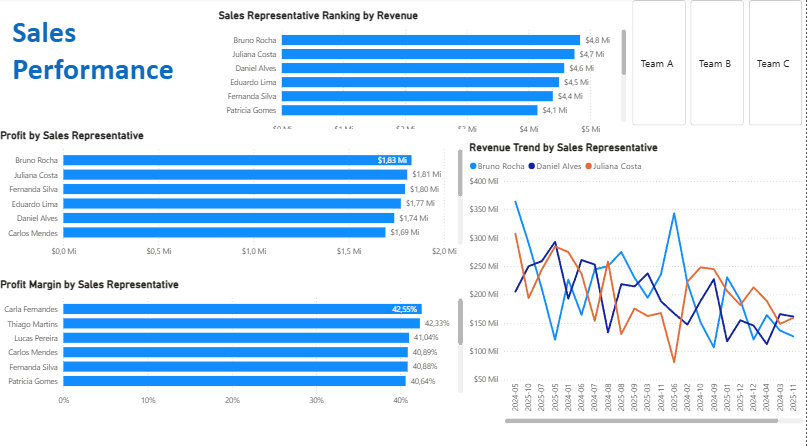

The page's visual inventory and layout, read from the dashboard file:
{"tool":"powerbi","page":{"name":"Sales Performance","canvas":[1280,720],"ordinal":2},"visuals":[{"type":"barChart","title":"Sales Representative Ranking by Revenue","fields":{"Category":["dim_sales_reps.sales_rep_name"],"Y":["fact_sales.Total Revenue"]},"box":[345.4,19,654.8,208.8],"z":0},{"type":"textbox","box":[19.1,21.5,286.7,143.3],"z":1000},{"type":"barChart","title":"Profit by Sales Representative","fields":{"Category":["dim_sales_reps.sales_rep_name"],"Y":["fact_sales.Total Profit"]},"box":[0,208.2,741.9,213],"z":2000},{"type":"barChart","title":"Profit Margin by Sales Representative","fields":{"Category":["dim_sales_reps.sales_rep_name"],"Y":["fact_sales.Margin %"]},"box":[0,444.1,742.1,212.6],"z":3000},{"type":"lineChart","title":"Revenue Trend by Sales Representative","fields":{"Category":["dim_date.year_month"],"Y":["fact_sales.Total Revenue"],"Series":["dim_sales_reps.sales_rep_name"]},"box":[742.1,227.8,539,451.7],"z":4000},{"type":"advancedSlicerVisual","fields":{"Values":["dim_sales_reps.team_name"]},"box":[1001,0,279,208],"z":5000}]}

Visuals, with their boxes in screenshot pixels (x1, y1, x2, y2), scaled from the page's 1280x720 canvas onto the 807x446 screenshot:
"Sales Representative Ranking by Revenue" barChart: bbox=(218, 12, 631, 141)
textbox: bbox=(12, 13, 193, 102)
"Profit by Sales Representative" barChart: bbox=(0, 129, 468, 261)
"Profit Margin by Sales Representative" barChart: bbox=(0, 275, 468, 407)
"Revenue Trend by Sales Representative" lineChart: bbox=(468, 141, 806, 421)
advancedSlicerVisual - dim_sales_reps.team_name: bbox=(631, 0, 806, 129)
